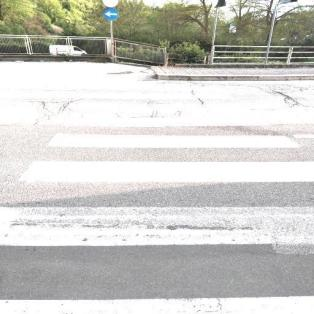Paso de Cebra: (40, 115, 304, 155), (81, 82, 235, 102)
